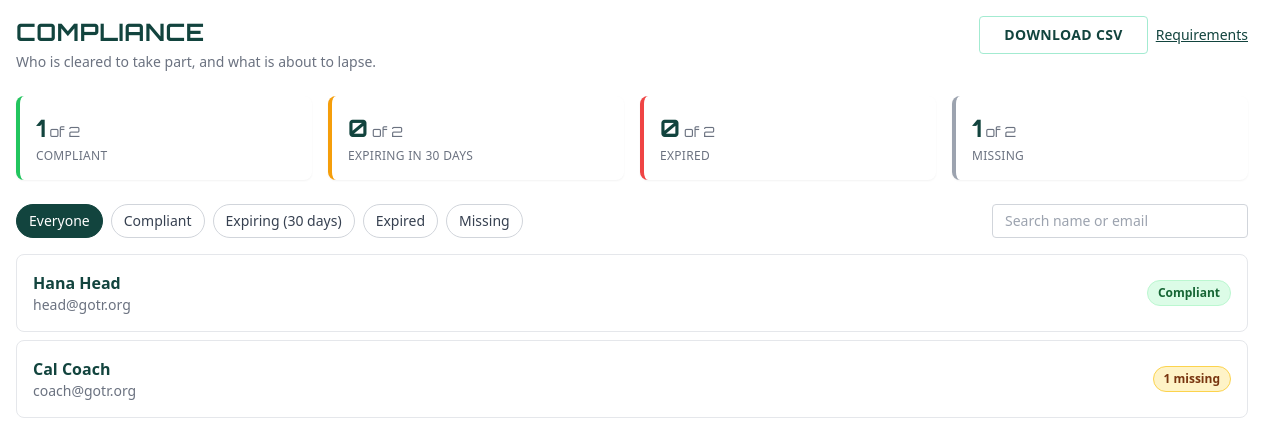
Scenario: ClubCompliance › a filter chip re-asks the server with that filter
Expected: the text "Hana Head" is shown, [33,272,121,294]
Click the button "Missing" at (484, 221), box [446,204,523,238]
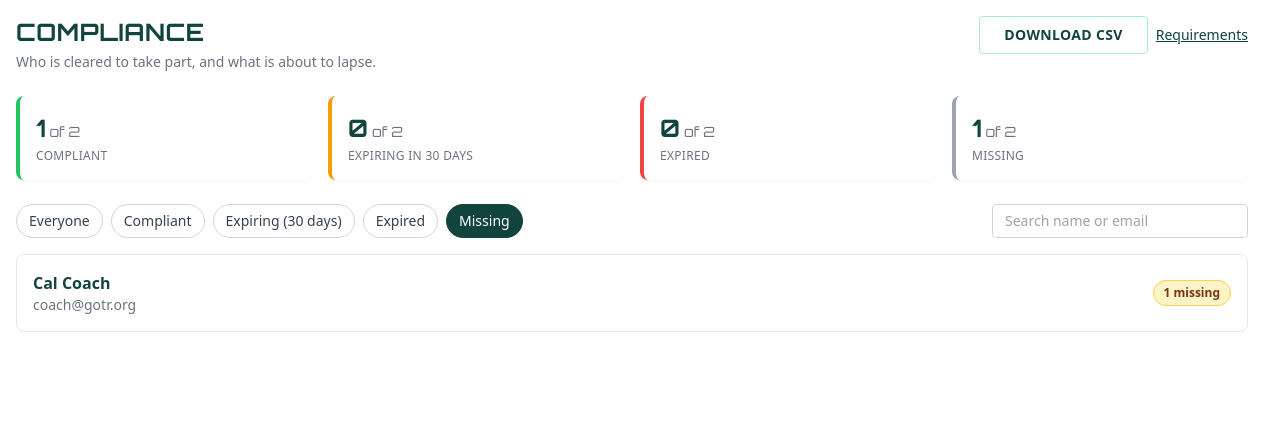
Expected: the text "Cal Coach" is shown, [33,272,110,294]
Now the button "Hana Head" is gone
